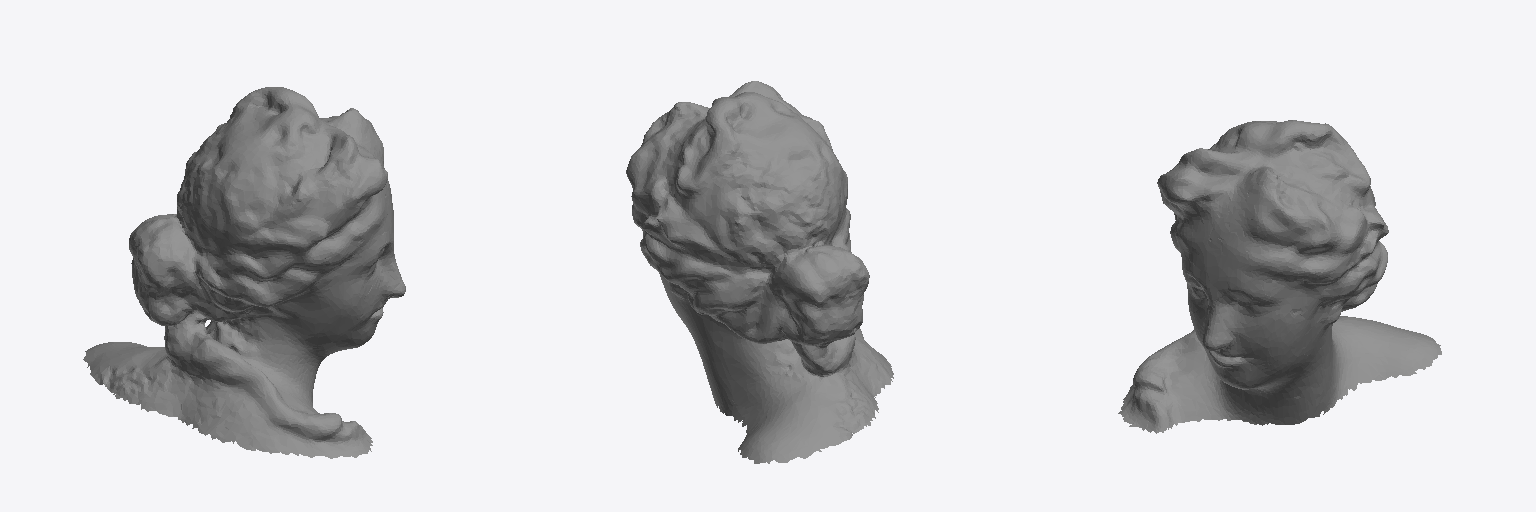
The model's file is head01.obj.
3 views of the same model, side by side, from view 1: azimuth 30°, elevation 25°; view 2: azimuth 150°, elevation 25°; view 3: azimuth 270°, elevation 25° (orthographic).
Parts seen in each view (by area): view 1: ARETHEUSE; view 2: ARETHEUSE; view 3: ARETHEUSE.
Part boxes in pixels (bbox=[...]): ARETHEUSE: bbox=[83, 87, 405, 458]; ARETHEUSE: bbox=[626, 81, 893, 463]; ARETHEUSE: bbox=[1118, 120, 1441, 433].
Bounding box in the file's own units: 3.4 × 4.05 × 3.92.